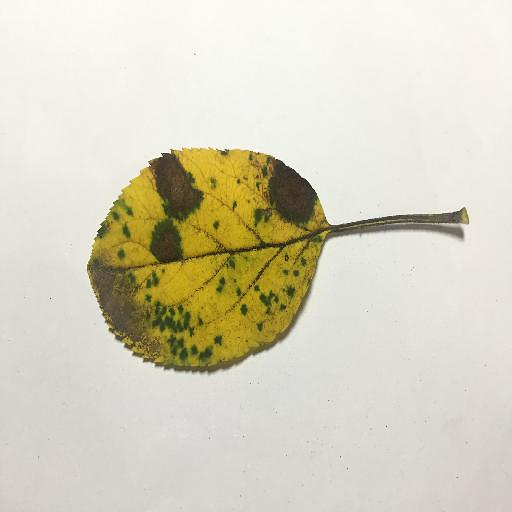Brown_Spot: (134, 293, 227, 370), (98, 279, 160, 361), (268, 166, 313, 216), (150, 168, 198, 211), (137, 222, 181, 259)
